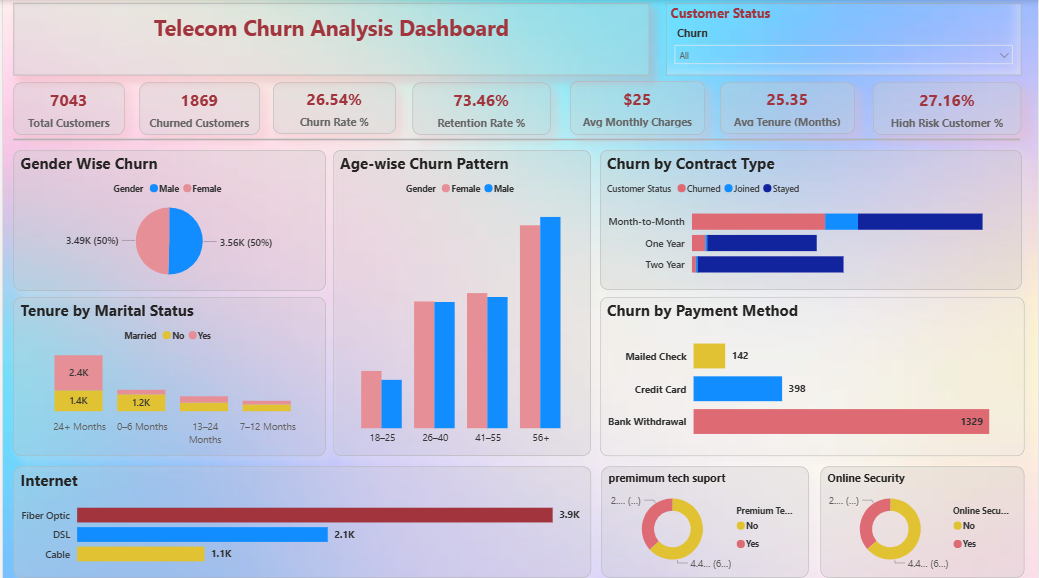

The dashboard page shown, as its layout file describes it:
{"tool":"powerbi","page":{"name":"Page 1","canvas":[1280,720],"ordinal":0},"visuals":[{"type":"card","fields":{"Values":["telecom_churn_cleaned.Total Customers"]},"box":[13,102,137.2,64.9],"z":0},{"type":"card","fields":{"Values":["telecom_churn_cleaned.Churned Customers"]},"box":[168.7,102,148.3,64.9],"z":1000},{"type":"card","fields":{"Values":["telecom_churn_cleaned.Churn Rate %"]},"box":[333.8,102,152,63],"z":2000},{"type":"card","fields":{"Values":["telecom_churn_cleaned.Retention Rate %"]},"box":[506.2,102,170.6,64.9],"z":3000},{"type":"card","fields":{"Values":["telecom_churn_cleaned.Avg Monthly Charge"]},"box":[700.9,100.1,166.9,66.8],"z":4000},{"type":"card","fields":{"Values":["telecom_churn_cleaned.Avg Tenure"]},"box":[886.3,102,166.9,63],"z":5000},{"type":"barChart","title":"Churn by Payment Method","fields":{"Category":["telecom_churn_cleaned.Payment Method"],"Y":["telecom_churn_cleaned.Churned Customers"]},"box":[738,367.1,524.7,196.5],"z":6000},{"type":"clusteredColumnChart","title":"Age-wise Churn Pattern","fields":{"Category":["telecom_churn_cleaned.Age Group"],"Y":["telecom_churn_cleaned.Churned Customers"],"Series":["telecom_churn_cleaned.Gender"]},"box":[407.9,185.4,318.9,378.3],"z":7000},{"type":"pieChart","title":"Gender Wise Churn","fields":{"Y":["CountNonNull(telecom_churn_cleaned.Customer ID)"],"Category":["telecom_churn_cleaned.Gender"]},"box":[13,185.4,385.7,174.3],"z":8000},{"type":"barChart","title":"Churn by Contract Type","fields":{"Category":["telecom_churn_cleaned.Contract"],"Y":["CountNonNull(telecom_churn_cleaned.Customer ID)"],"Series":["telecom_churn_cleaned.Customer Status"]},"box":[738,185.4,521,172.4],"z":9000},{"type":"clusteredBarChart","title":" Internet ","fields":{"Category":["telecom_churn_cleaned.Internet Type"],"Y":["CountNonNull(telecom_churn_cleaned.Customer ID)"]},"box":[13,576.7,713.9,137.2],"z":10000},{"type":"donutChart","title":" Online Security","fields":{"Category":["telecom_churn_cleaned.Online Security"],"Y":["CountNonNull(telecom_churn_cleaned.Customer ID)"]},"box":[1010.5,576.7,252.2,137.2],"z":11000},{"type":"donutChart","title":"premimum tech suport","fields":{"Category":["telecom_churn_cleaned.Premium Tech Support"],"Y":["CountNonNull(telecom_churn_cleaned.Customer ID)"]},"box":[739.8,576.7,255.9,137.2],"z":12000},{"type":"card","fields":{"Values":["telecom_churn_cleaned.High Risk Customer %"]},"box":[1075.4,102,183.6,64.9],"z":13000},{"type":"textbox","title":"            Telecom Churn Analysis Dashboard","box":[13,3.7,786.2,89],"z":14000},{"type":"slicer","title":"Customer Status ","fields":{"Values":["telecom_churn_cleaned.Churn"]},"box":[819.6,3.7,439.4,89],"z":16000},{"type":"columnChart","title":"Tenure by Marital Status","fields":{"Y":["CountNonNull(telecom_churn_cleaned.Customer ID)"],"Series":["telecom_churn_cleaned.Married"],"Category":["telecom_churn_cleaned.Tenure Group"]},"box":[13,367.1,385.7,196.5],"z":18000},{"type":"shape","box":[13,165,1244.2,14.8],"z":20000}]}

Visuals, with their boxes in screenshot pixels (x1, y1, x2, y2), scaled from the page's 1280x720 canvas onto the 1039x578 screenshot:
card - telecom_churn_cleaned.Total Customers: detection(11, 82, 122, 134)
card - telecom_churn_cleaned.Churned Customers: detection(137, 82, 257, 134)
card - telecom_churn_cleaned.Churn Rate %: detection(271, 82, 394, 132)
card - telecom_churn_cleaned.Retention Rate %: detection(411, 82, 549, 134)
card - telecom_churn_cleaned.Avg Monthly Charge: detection(569, 80, 704, 134)
card - telecom_churn_cleaned.Avg Tenure: detection(719, 82, 855, 132)
"Churn by Payment Method" barChart: detection(599, 295, 1025, 452)
"Age-wise Churn Pattern" clusteredColumnChart: detection(331, 149, 590, 453)
"Gender Wise Churn" pieChart: detection(11, 149, 324, 289)
"Churn by Contract Type" barChart: detection(599, 149, 1022, 287)
" Internet " clusteredBarChart: detection(11, 463, 590, 573)
" Online Security" donutChart: detection(820, 463, 1025, 573)
"premimum tech suport" donutChart: detection(601, 463, 808, 573)
card - telecom_churn_cleaned.High Risk Customer %: detection(873, 82, 1022, 134)
"            Telecom Churn Analysis Dashboard" textbox: detection(11, 3, 649, 74)
"Customer Status " slicer: detection(665, 3, 1022, 74)
"Tenure by Marital Status" columnChart: detection(11, 295, 324, 452)
shape: detection(11, 132, 1020, 144)
